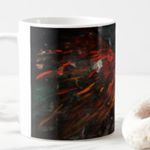cups: (1, 14, 118, 143)
